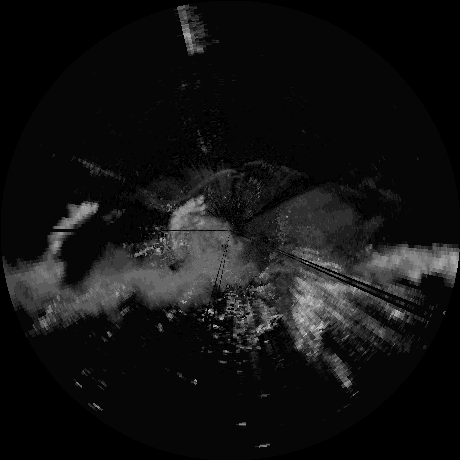frontgust: (173, 169, 232, 203), (247, 162, 304, 175)
